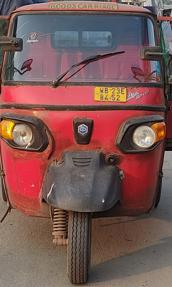Auto: (2, 1, 172, 287)
